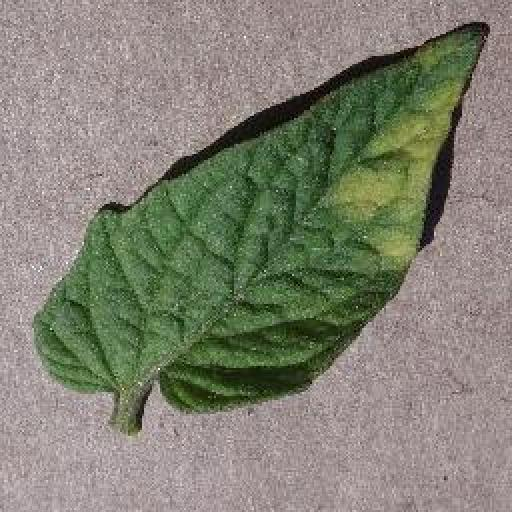disease_tomato: (32, 22, 490, 416)
